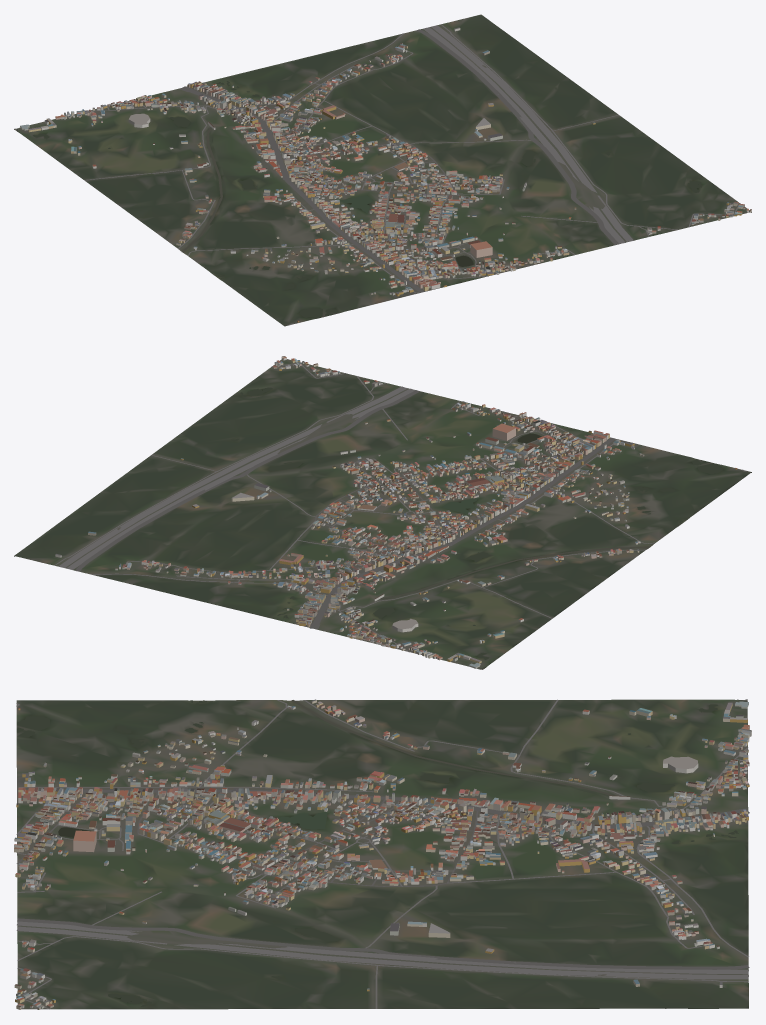
3 renders of one model, top to bottom at view 1: azimuth 30°, elevation 25°; view 2: azimuth 150°, elevation 25°; view 3: azimuth 270°, elevation 25°, orthographic. The views are drawn at different scales.
Visible parts, largest first — view 1: ground, buildings, roads, water; view 2: ground, buildings, roads, water; view 3: ground, buildings, roads, water.
Part boxes in pixels (x1=…): ground: x1=14, y1=14, x2=751, y2=326; buildings: x1=20, y1=27, x2=751, y2=322; roads: x1=14, y1=24, x2=740, y2=324; water: x1=17, y1=81, x2=702, y2=317; ground: x1=14, y1=359, x2=751, y2=669; buildings: x1=55, y1=356, x2=737, y2=668; roads: x1=54, y1=362, x2=746, y2=669; water: x1=231, y1=387, x2=723, y2=669; ground: x1=16, y1=699, x2=748, y2=1009; buildings: x1=14, y1=699, x2=751, y2=1009; roads: x1=16, y1=699, x2=749, y2=1009; water: x1=17, y1=699, x2=747, y2=1006.
Size of the model in its own units: 1409 by 27.43 by 1415.
